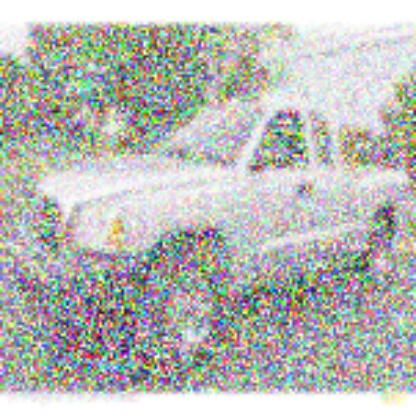Vehicle: (6, 98, 413, 384)
